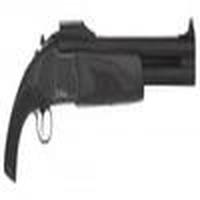gun: (5, 25, 200, 182)
